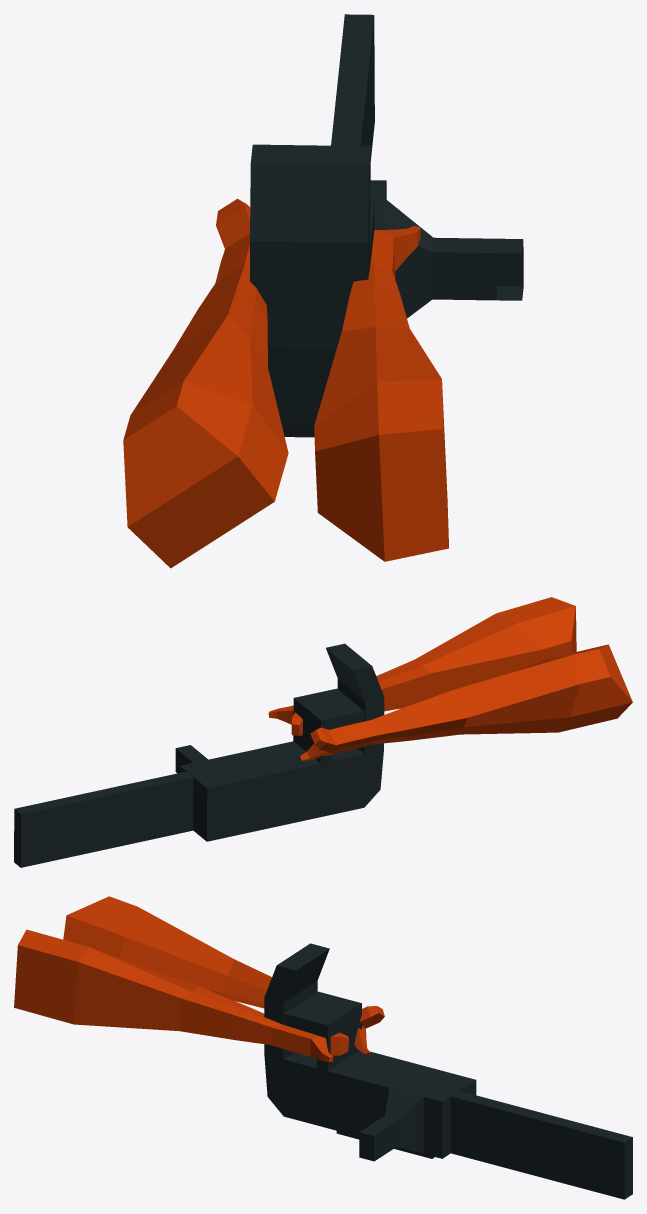
Rendered from arme_000029.obj.
3 views of the same model, one above another, from view 1: azimuth 30°, elevation 25°; view 2: azimuth 150°, elevation 25°; view 3: azimuth 270°, elevation 25° (orthographic). The views are drawn at different scales.
Visible parts, largest first — view 1: Cube.046_Cube.010, Cube.048_Cube.024, Cube.047_Cube.022; view 2: Cube.046_Cube.010, Cube.048_Cube.024, Cube.047_Cube.022; view 3: Cube.046_Cube.010, Cube.047_Cube.022, Cube.048_Cube.024.
Boxes of the visible parts, box(x1,y1,x2,y2) form: Cube.046_Cube.010: box(250, 14, 523, 437); Cube.048_Cube.024: box(123, 198, 288, 568); Cube.047_Cube.022: box(314, 225, 448, 561); Cube.046_Cube.010: box(14, 643, 384, 867); Cube.048_Cube.024: box(300, 644, 632, 761); Cube.047_Cube.022: box(268, 597, 576, 735); Cube.046_Cube.010: box(264, 943, 632, 1199); Cube.047_Cube.022: box(14, 929, 348, 1061); Cube.048_Cube.024: box(63, 896, 384, 1055).
Bounding box in the file's own units: 1598 × 618 × 2175.
